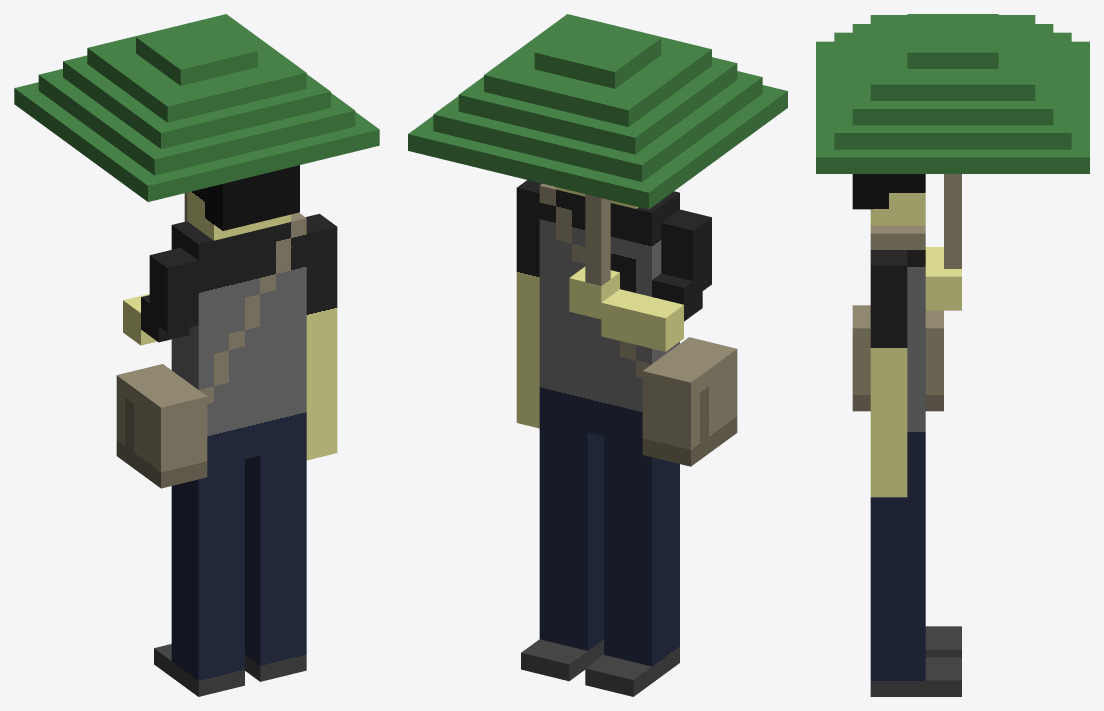
The model's file is char_ron.dae.
3 views of the same model, side by side, from view 1: azimuth 30°, elevation 25°; view 2: azimuth 150°, elevation 25°; view 3: azimuth 270°, elevation 25° (orthographic). The views are drawn at different scales.
Visible parts, largest first — view 1: char_ron; view 2: char_ron; view 3: char_ron.
Boxes of the visible parts, bbox=[...] form: char_ron: bbox=[14, 14, 379, 696]; char_ron: bbox=[408, 14, 787, 696]; char_ron: bbox=[816, 14, 1089, 696].
Size of the model in its own units: 1.5 by 3.8 by 1.5.
